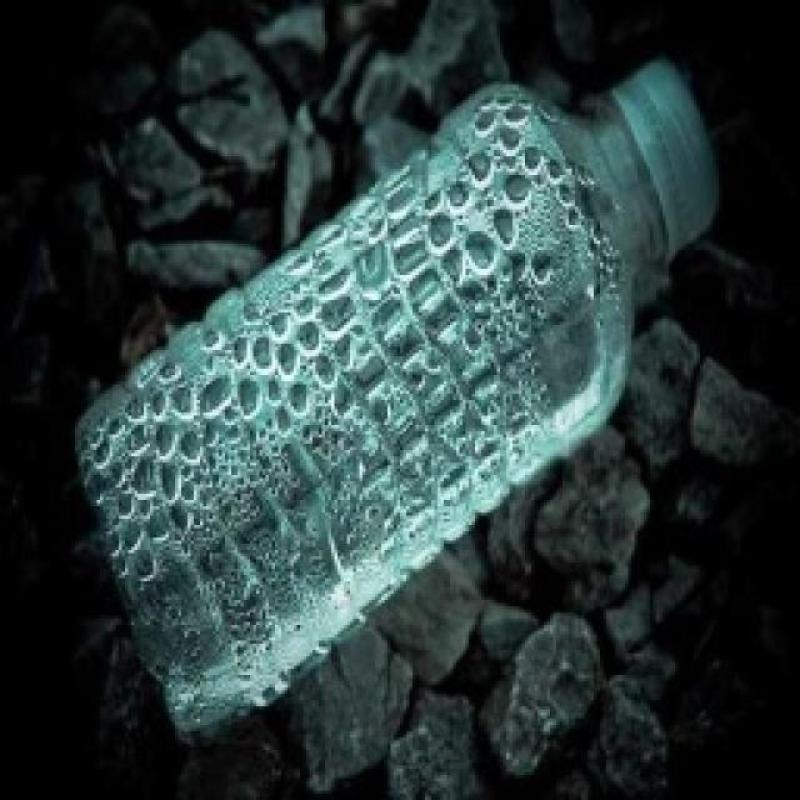botella: (70, 58, 718, 736)
